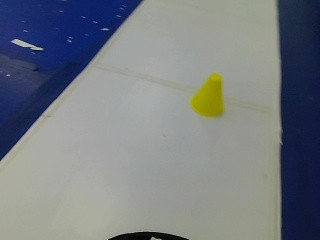cone: (188, 70, 227, 118)
